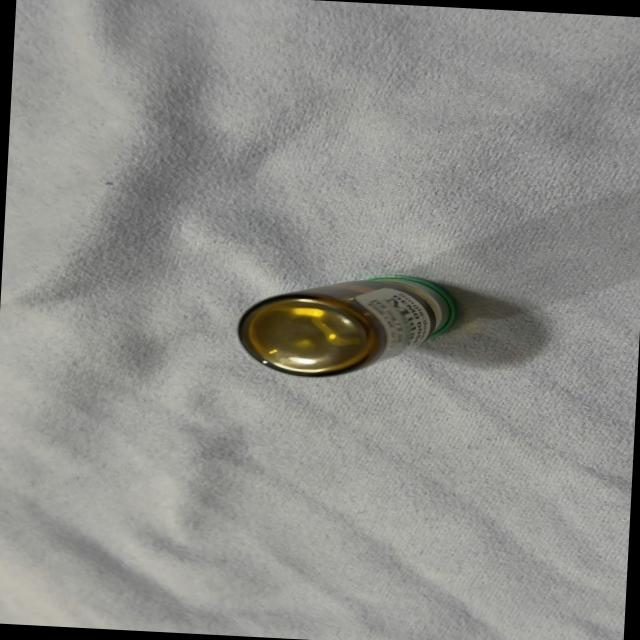midazolm: (239, 268, 456, 382)
